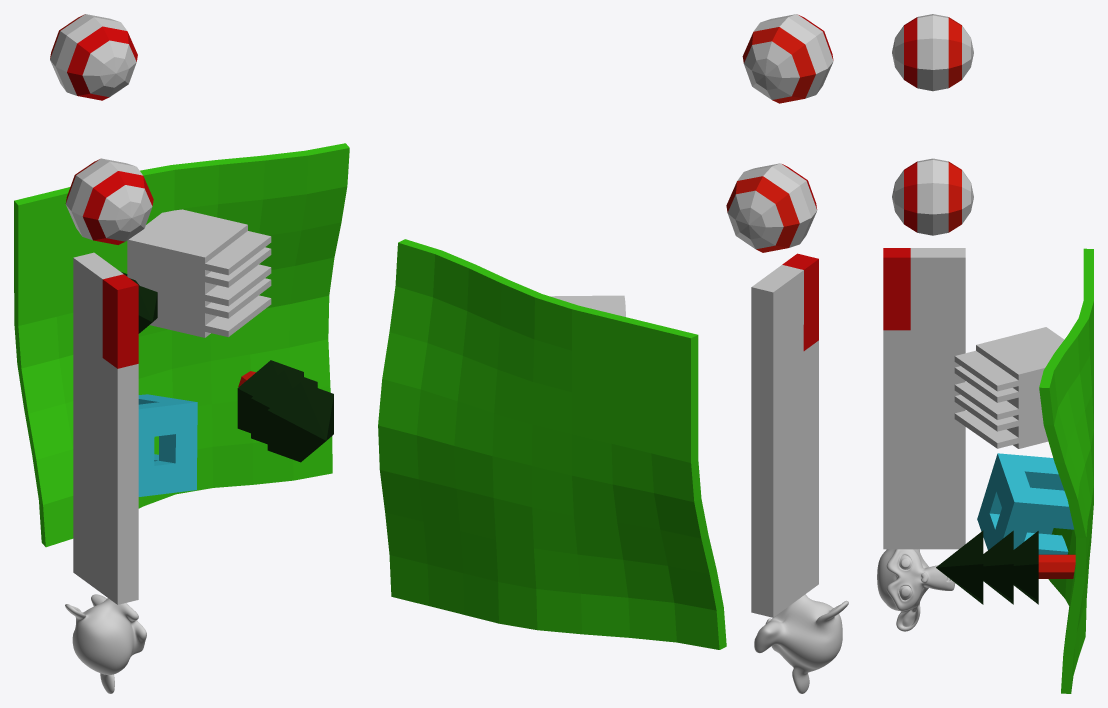
File: ejemplo.obj
3 views of the same model, side by side, from view 1: azimuth 30°, elevation 25°; view 2: azimuth 150°, elevation 25°; view 3: azimuth 270°, elevation 25° (orthographic). The views are drawn at different scales.
Parts seen in each view (by area): view 1: hierba, Plane, Cube.001, Sphere, Sphere.001, Cube, Suzanne; view 2: hierba, Plane, Sphere, Sphere.001, Suzanne, Cube.001; view 3: Plane, hierba, Cube.001, Cube, Sphere.001, Sphere, Suzanne.
Part boxes in pixels (x1,y1,x2,y2): hierba: (14, 143, 349, 547); Plane: (73, 252, 138, 604); Cube.001: (127, 209, 271, 337); Sphere: (65, 158, 153, 244); Sphere.001: (50, 14, 137, 100); Cube: (138, 394, 197, 496); Suzanne: (65, 594, 146, 693); hierba: (378, 239, 726, 649); Plane: (751, 253, 818, 617); Sphere: (726, 163, 817, 252); Sphere.001: (742, 14, 833, 103); Suzanne: (754, 594, 848, 693); Cube.001: (550, 295, 625, 316); Plane: (883, 248, 965, 549); hierba: (936, 248, 1093, 693); Cube.001: (954, 327, 1064, 448); Cube: (977, 453, 1073, 554); Sphere.001: (892, 14, 973, 91); Sphere: (892, 158, 973, 235); Suzanne: (877, 549, 955, 631).
Bounding box in the file's own units: 9.28 × 16.53 × 5.27.
